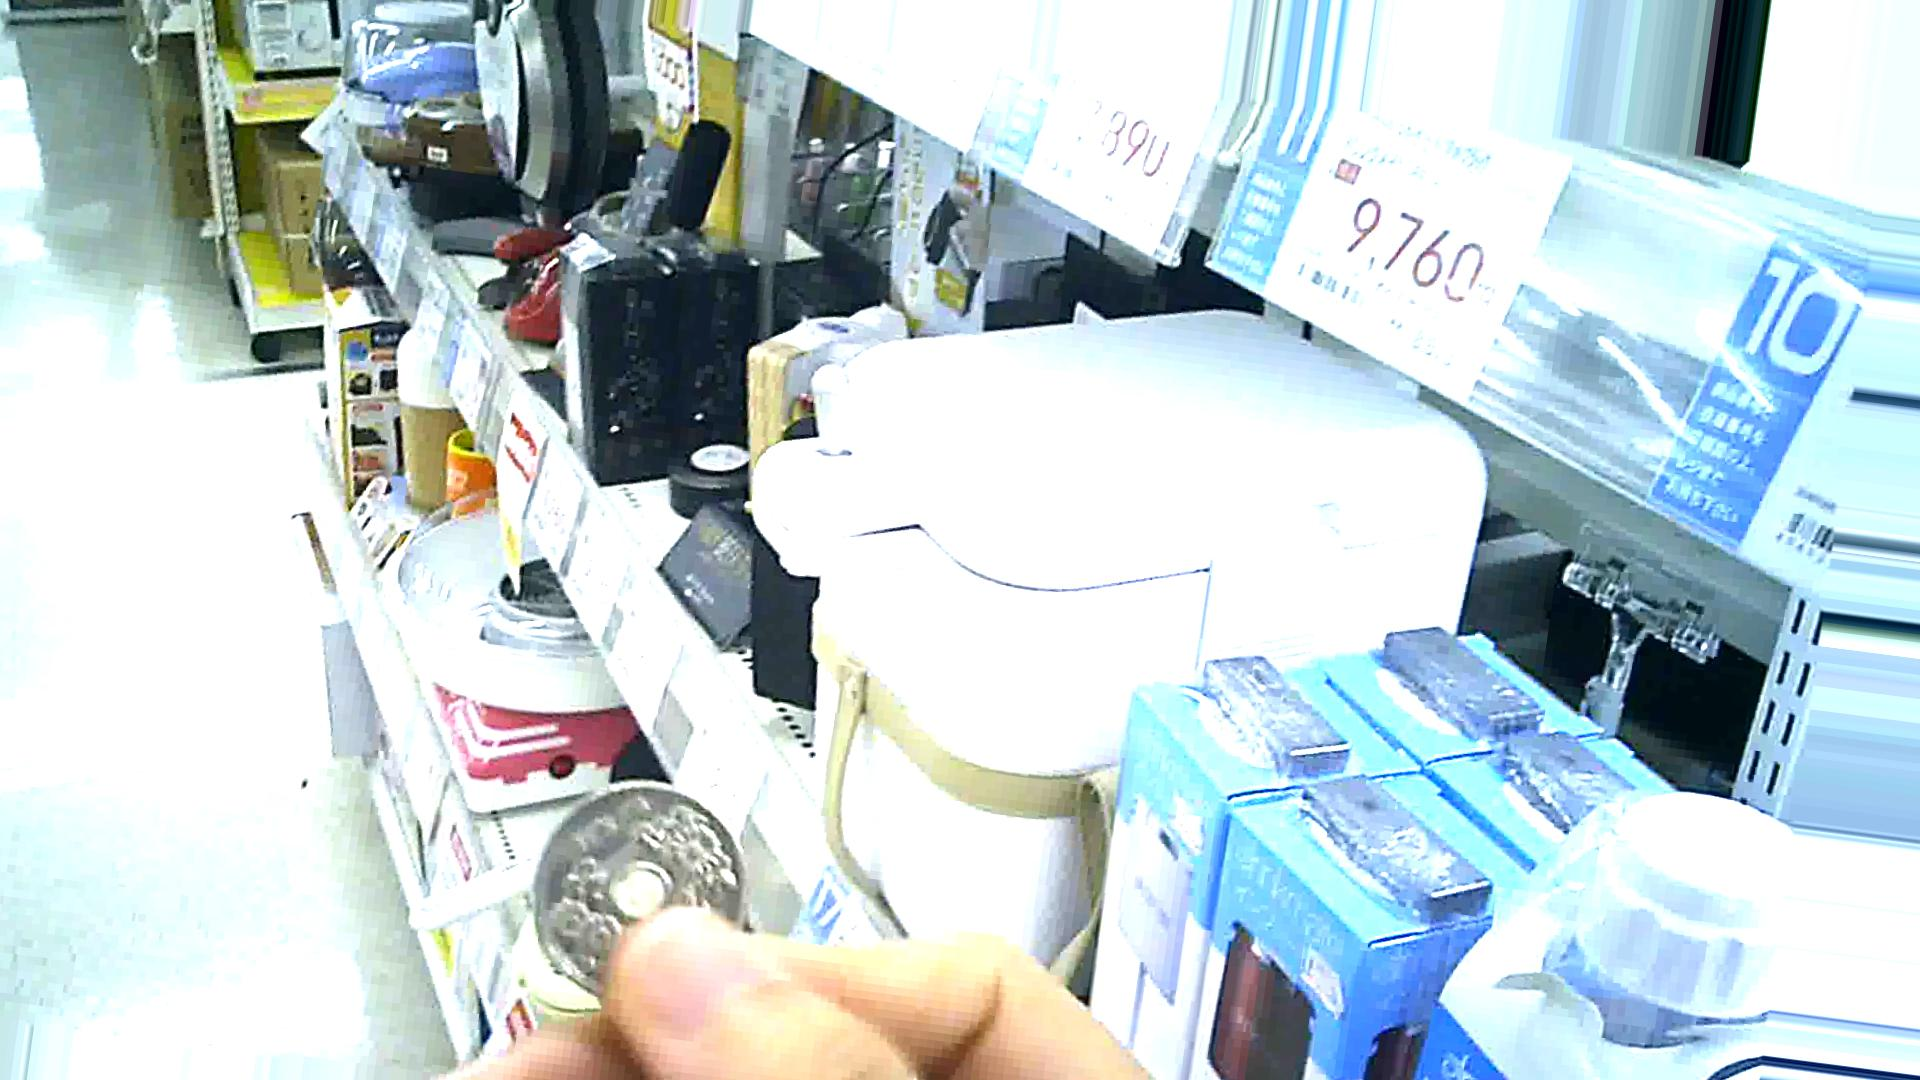50 Yen: (520, 778, 732, 992)
